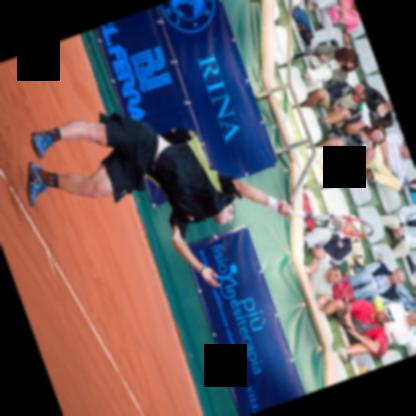handbag: (308, 145, 338, 186), (291, 5, 313, 50), (281, 0, 305, 15)
